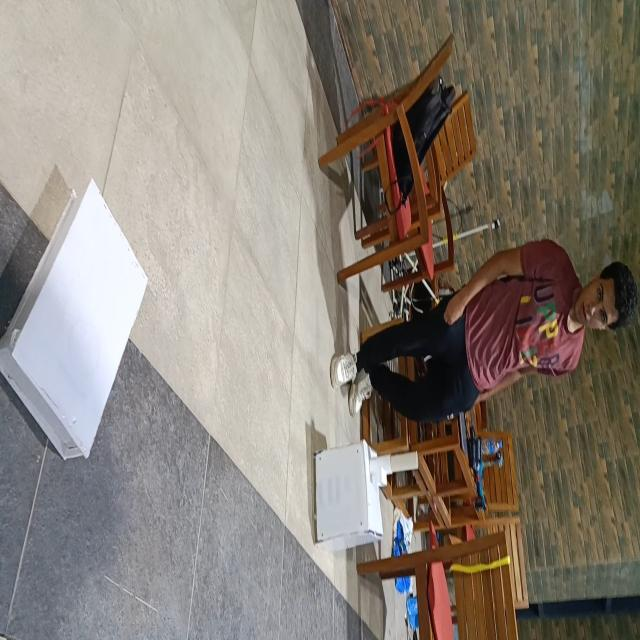Cube: (312, 438, 384, 552)
Cuboid: (0, 175, 148, 461)
